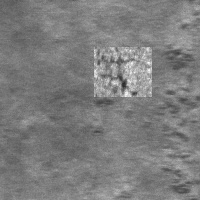crazing: (94, 47, 152, 97)
rolled-in_scale: (140, 80, 199, 197), (24, 84, 124, 140), (159, 7, 200, 83)
